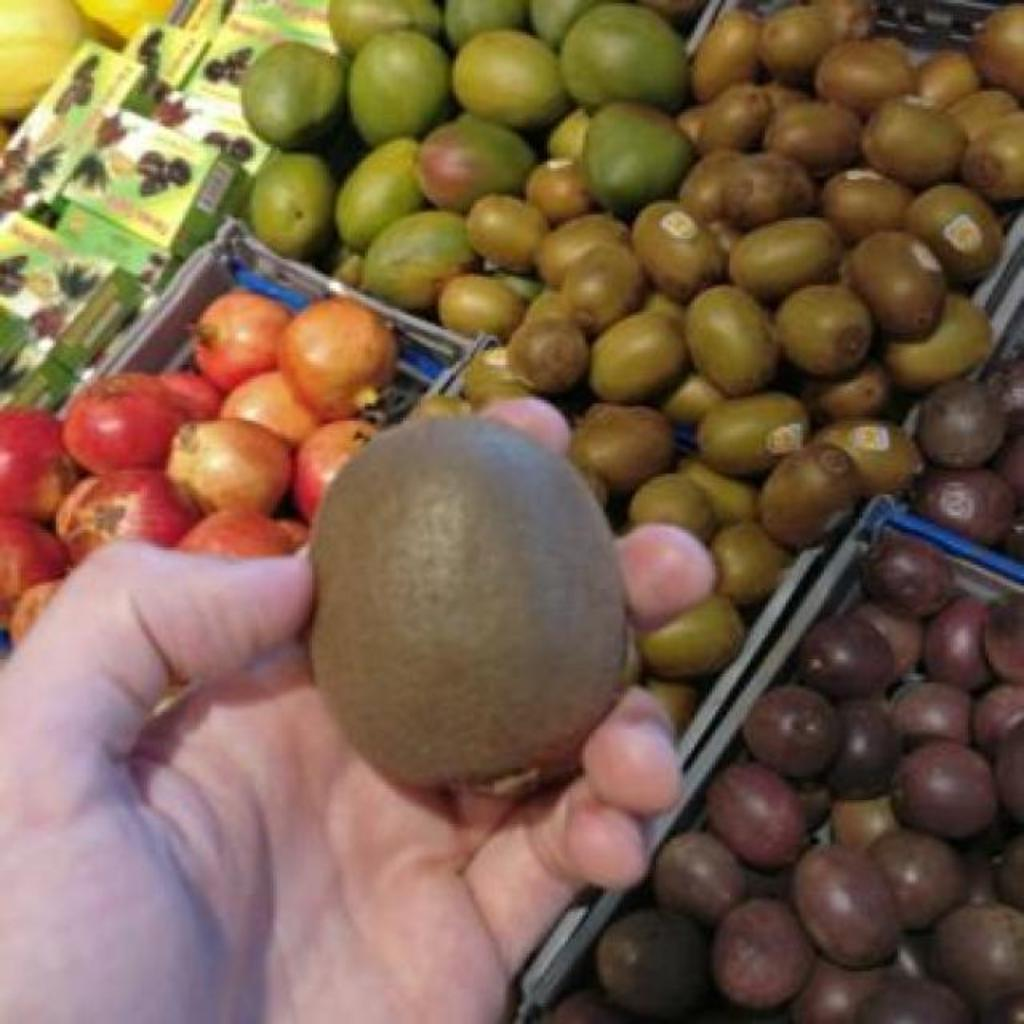kiwi: (312, 418, 628, 787), (760, 444, 858, 547), (846, 232, 942, 337), (686, 286, 776, 396), (886, 296, 990, 389), (568, 404, 674, 491), (638, 594, 744, 679), (906, 186, 1000, 281), (776, 284, 872, 377), (632, 202, 724, 299), (732, 220, 842, 301), (862, 102, 966, 187), (590, 312, 686, 403), (700, 396, 810, 475), (816, 38, 916, 117), (816, 420, 922, 494), (764, 102, 860, 177), (564, 246, 646, 333), (724, 152, 816, 227), (710, 520, 790, 605), (536, 214, 628, 287), (822, 168, 912, 242), (758, 6, 840, 85), (468, 194, 548, 271), (692, 12, 760, 101), (960, 112, 1024, 201), (510, 320, 588, 393), (438, 274, 524, 337), (632, 476, 714, 541), (680, 458, 756, 525), (700, 84, 772, 151), (524, 158, 594, 223), (976, 4, 1024, 97), (680, 150, 742, 221), (818, 364, 892, 420), (466, 346, 532, 407), (946, 90, 1020, 143), (918, 50, 980, 107), (662, 374, 724, 423), (642, 292, 684, 331), (524, 290, 572, 323), (410, 396, 472, 421), (761, 86, 808, 114), (678, 107, 708, 150), (706, 220, 742, 255)
